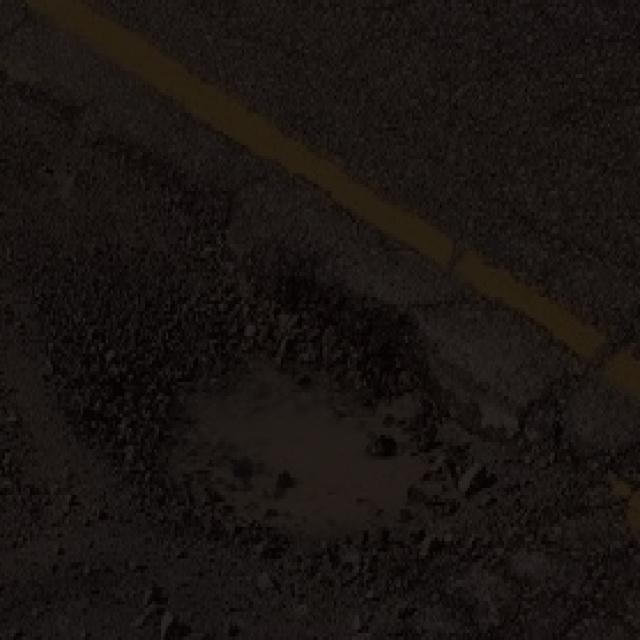Pothole: (97, 237, 494, 575)
